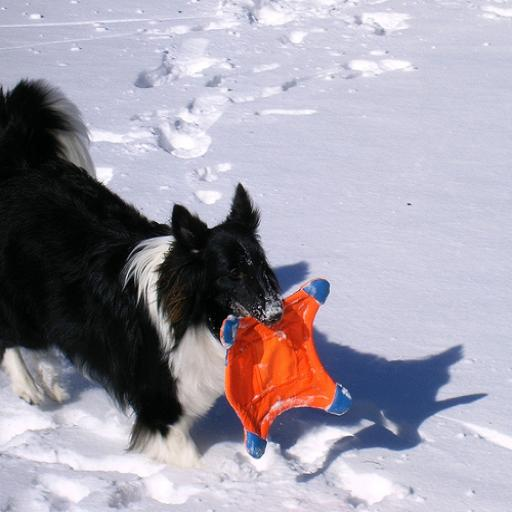dog_face: (175, 191, 287, 331)
